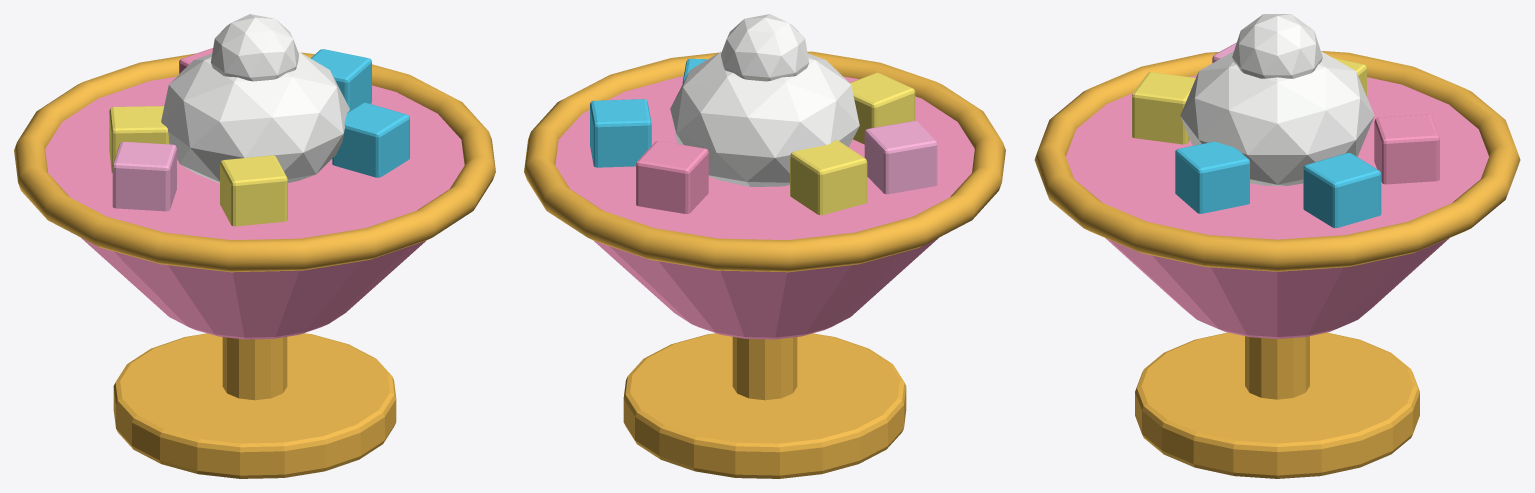
The model's file is pixel_punch.glb.
3 views of the same model, side by side, from view 1: azimuth 30°, elevation 25°; view 2: azimuth 150°, elevation 25°; view 3: azimuth 270°, elevation 25° (orthographic).
Visible parts, largest first — view 1: Goblet foot, Bowl, Cream swirl, Pixel fruit, Pixel fruit.001, Pixel fruit.005; view 2: Goblet foot, Bowl, Cream swirl, Pixel fruit, Pixel fruit.005, Pixel fruit.001; view 3: Goblet foot, Bowl, Cream swirl, Pixel fruit.001, Pixel fruit.
Boxes of the visible parts, box(x1,y1,x2,y2) form: Goblet foot: box(14, 52, 495, 478); Bowl: box(45, 48, 464, 339); Cream swirl: box(161, 14, 349, 183); Pixel fruit: box(109, 106, 287, 226); Pixel fruit.001: box(310, 49, 409, 177); Pixel fruit.005: box(112, 141, 176, 211); Goblet foot: box(524, 51, 1005, 478); Bowl: box(555, 76, 974, 339); Cream swirl: box(670, 14, 859, 186); Pixel fruit: box(790, 72, 915, 215); Pixel fruit.005: box(864, 121, 937, 194); Pixel fruit.001: box(590, 58, 707, 167); Goblet foot: box(1034, 51, 1520, 478); Bowl: box(1066, 75, 1488, 338); Cream swirl: box(1180, 14, 1374, 185); Pixel fruit.001: box(1175, 141, 1381, 228); Pixel fruit: box(1132, 57, 1366, 144).
Size of the model in its own units: 0.75 by 0.69 by 0.75.
